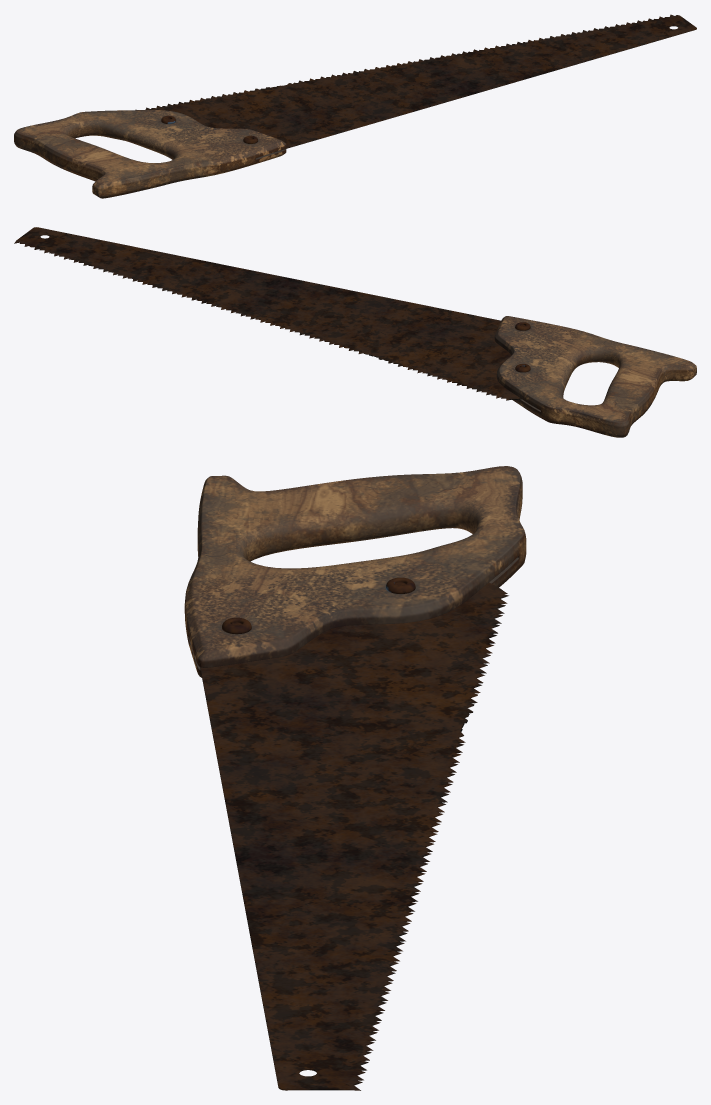
File: old_rusty_handsaw.glb
3 views of the same model, one above another, from view 1: azimuth 30°, elevation 25°; view 2: azimuth 150°, elevation 25°; view 3: azimuth 270°, elevation 25° (orthographic). The views are drawn at different scales.
Visible parts, largest first — view 1: Saw_Old_Rusty_1, Handle_Old_Dirty_0; view 2: Saw_Old_Rusty_1, Handle_Old_Dirty_0; view 3: Saw_Old_Rusty_1, Handle_Old_Dirty_0.
Boxes of the visible parts, x1,y1,x2,y2 form: Saw_Old_Rusty_1: [135, 14, 696, 150]; Handle_Old_Dirty_0: [14, 110, 286, 198]; Saw_Old_Rusty_1: [14, 227, 521, 400]; Handle_Old_Dirty_0: [494, 316, 696, 437]; Saw_Old_Rusty_1: [200, 582, 508, 1090]; Handle_Old_Dirty_0: [184, 466, 526, 677].
Size of the model in its own units: 0.6404 by 0.0203 by 0.1514.
3 materials, 3 textured.
